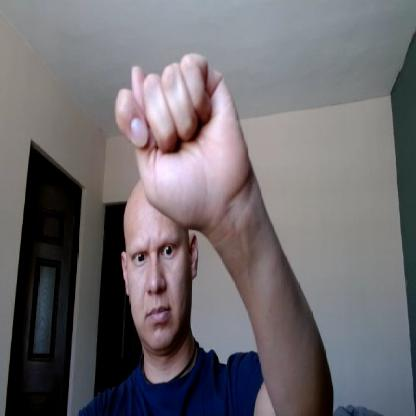T: (115, 50, 255, 229)
